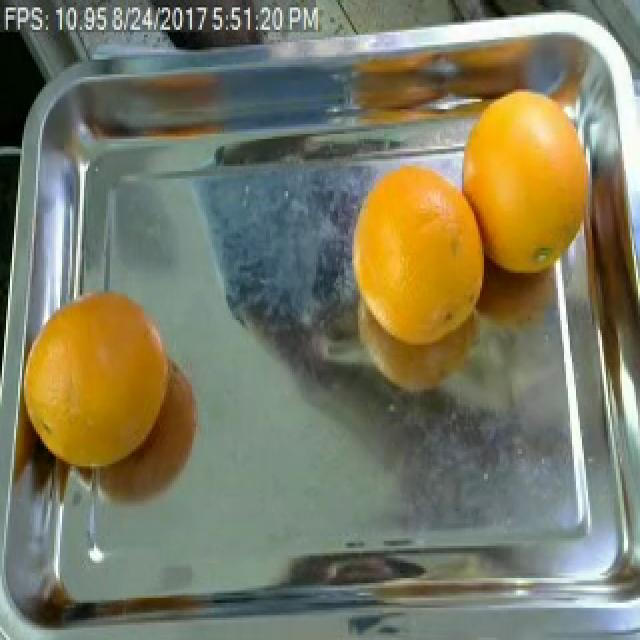Fruit: (330, 144, 496, 365)
